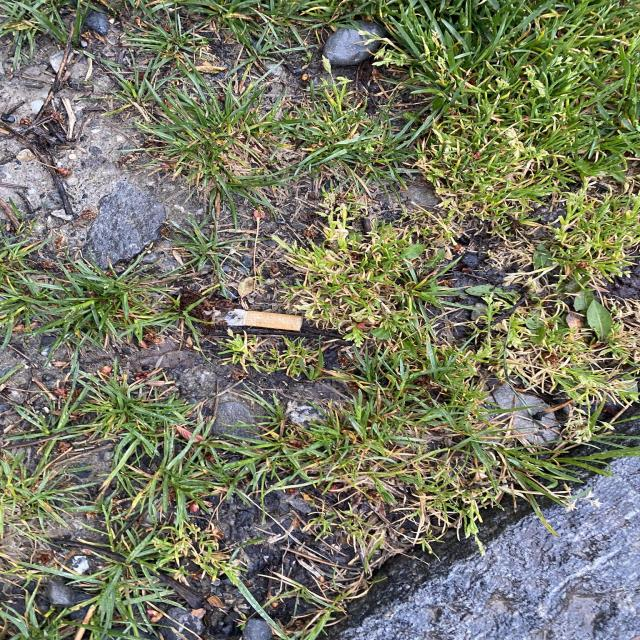other waste: (204, 308, 304, 331)
